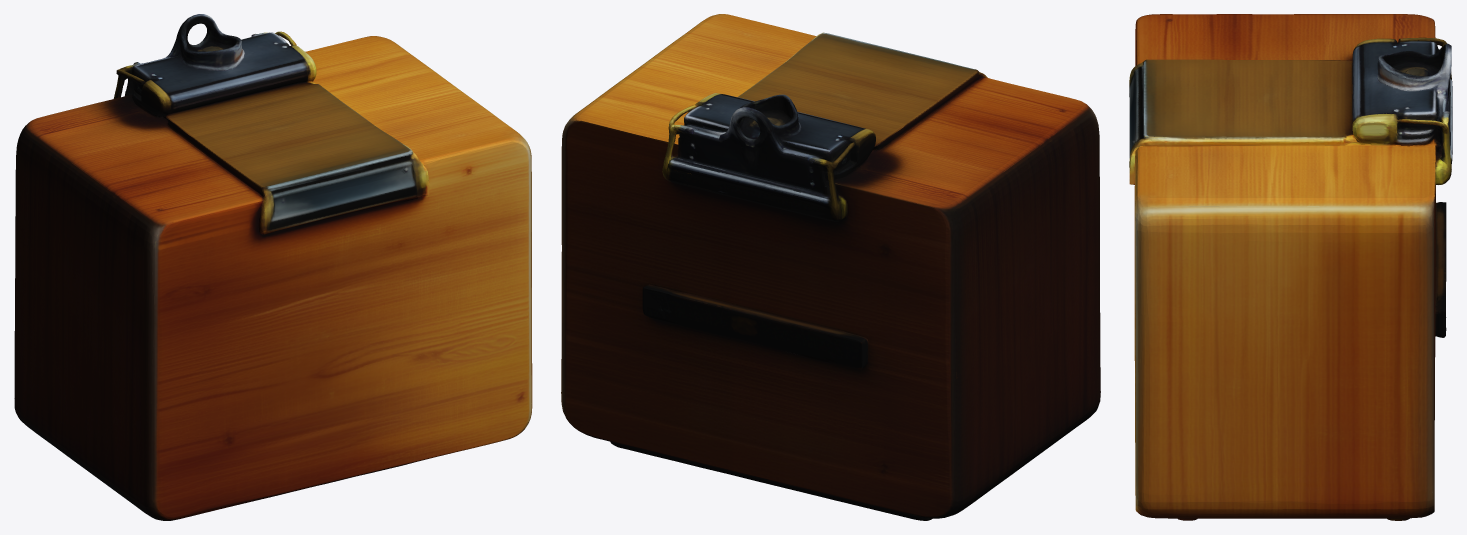
File: bamboo-clipboard-vintage.jpeg.glb
3 views of the same model, side by side, from view 1: azimuth 30°, elevation 25°; view 2: azimuth 150°, elevation 25°; view 3: azimuth 270°, elevation 25° (orthographic). The views are drawn at different scales.
Visible parts, largest first — view 1: world; view 2: world; view 3: world.
Part boxes in pixels (x1,y1,x2,y2): world: (14, 14, 532, 520); world: (561, 14, 1100, 520); world: (1129, 14, 1452, 520).
Bounding box in the file's own units: 0.9926 × 0.9212 × 0.6792.
1 material, 1 textured.
